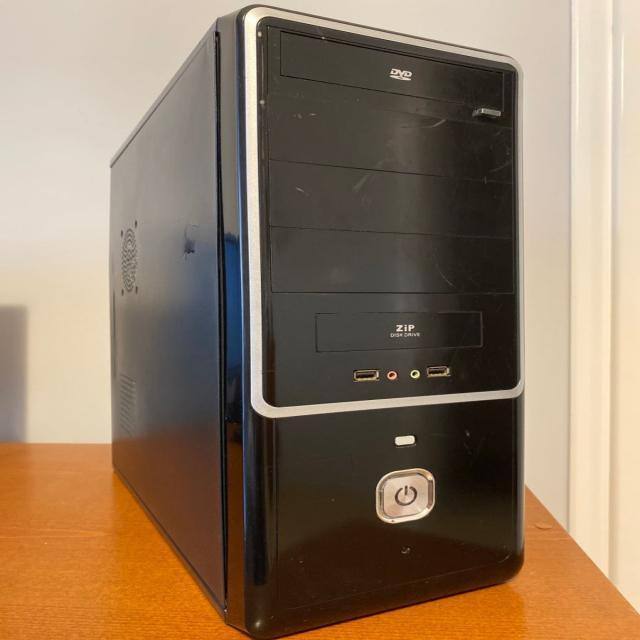Desktop-PC: (116, 0, 584, 630)
